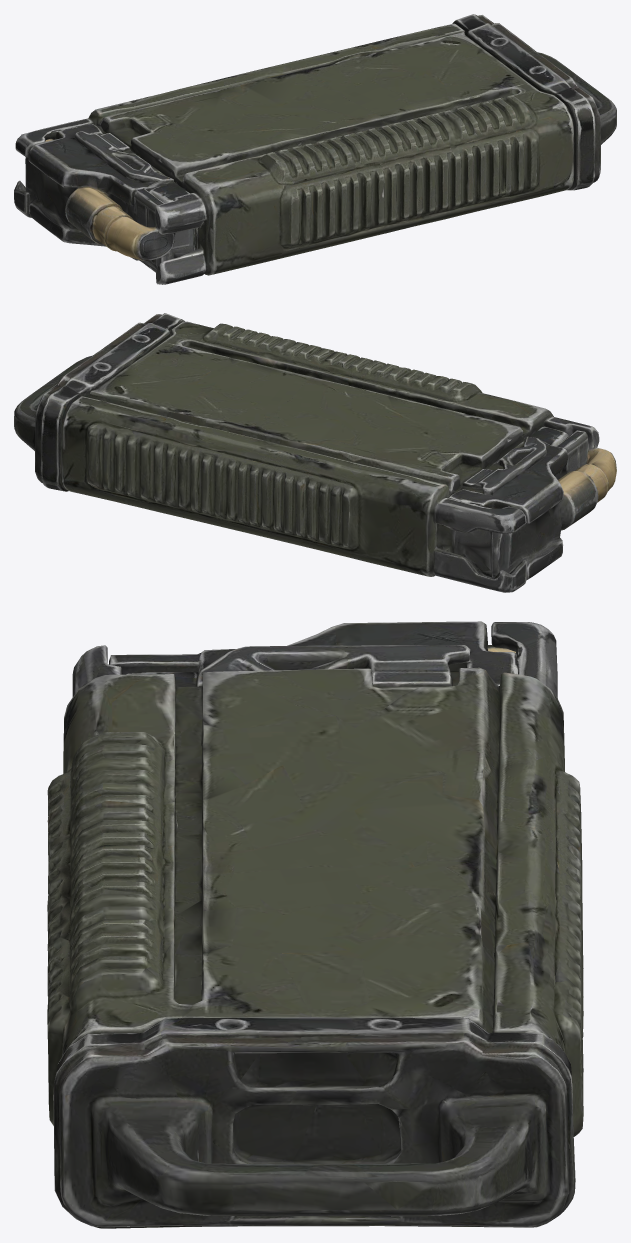
Rendered from vm_rifle_mag.glb.
3 renders of one model, top to bottom at view 1: azimuth 30°, elevation 25°; view 2: azimuth 150°, elevation 25°; view 3: azimuth 270°, elevation 25°, orthographic. The views are drawn at different scales.
Bounding box in the file's own units: 1.9 × 0.3526 × 0.849.
Materials: 1 (1 with a texture image).
